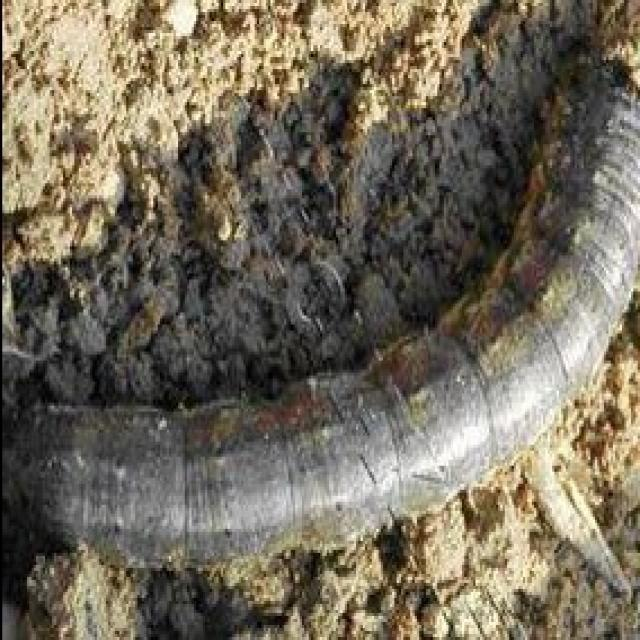black cutworm: (7, 55, 640, 608)
